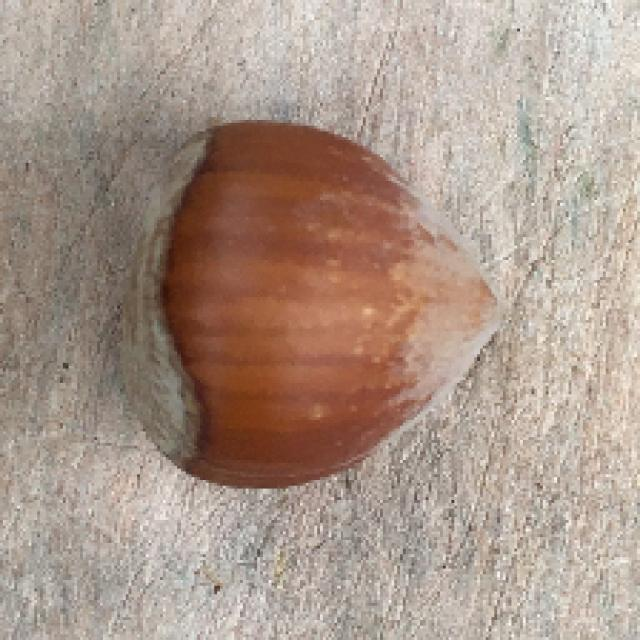qualityHazelnut: (101, 108, 509, 503)
